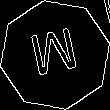M_S: (27, 26, 83, 84)
